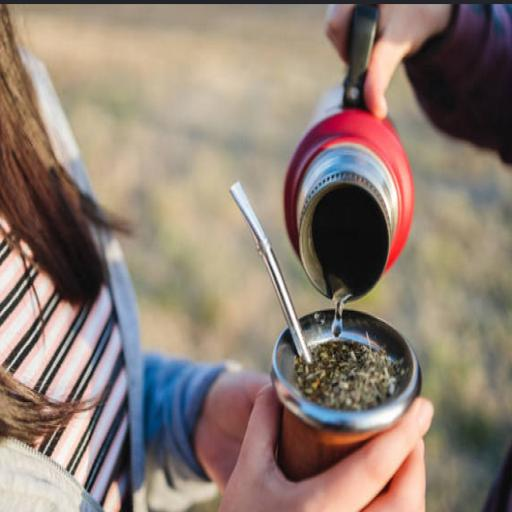mate: (272, 311, 420, 478)
termo: (284, 84, 414, 300)
